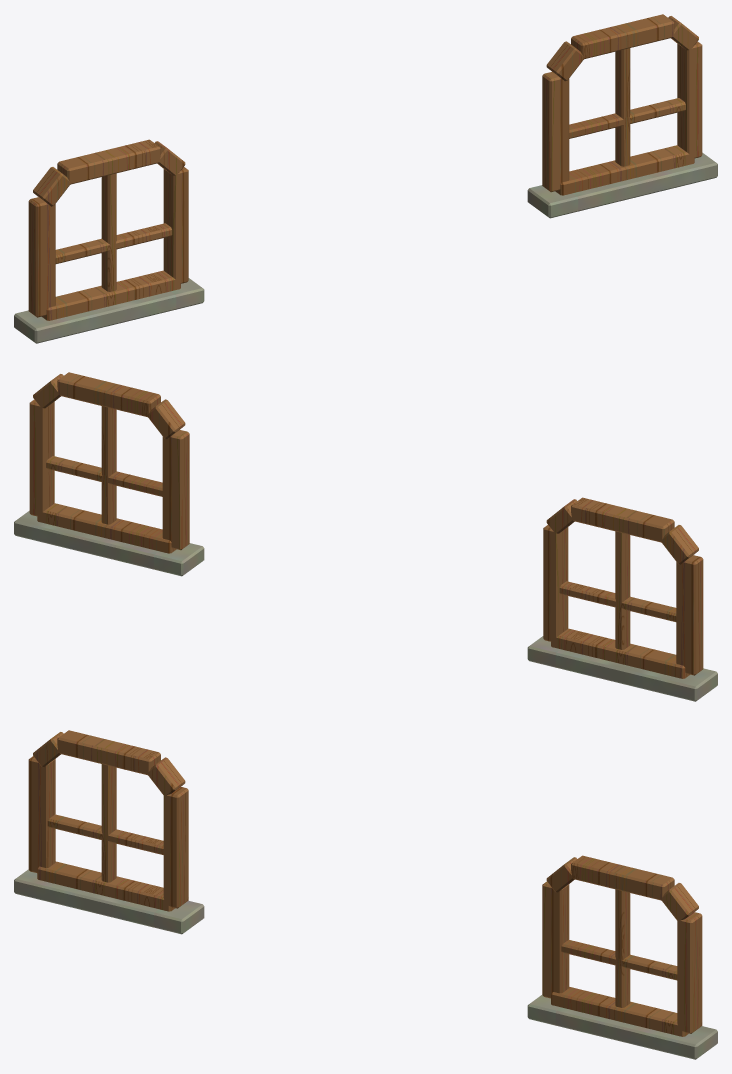
Rendered from SM_HH_V2_Windows_Far.fbx.
3 views of the same model, one above another, from view 1: azimuth 30°, elevation 25°; view 2: azimuth 150°, elevation 25°; view 3: azimuth 330°, elevation 25° (orthographic).
Parts seen in each view (by area): view 1: HH_V2_Windows_Far; view 2: HH_V2_Windows_Far; view 3: HH_V2_Windows_Far.
Boxes of the visible parts, x1=… form: HH_V2_Windows_Far: x1=14, y1=14, x2=717, y2=343; HH_V2_Windows_Far: x1=14, y1=372, x2=717, y2=701; HH_V2_Windows_Far: x1=14, y1=730, x2=717, y2=1059.
Size of the model in its own units: 0.35 by 6.12 by 1.38.
